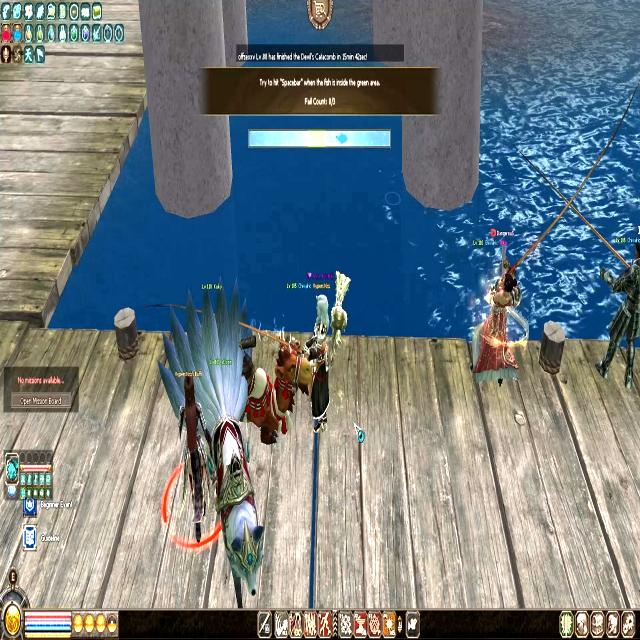fishes: (335, 131, 348, 145)
